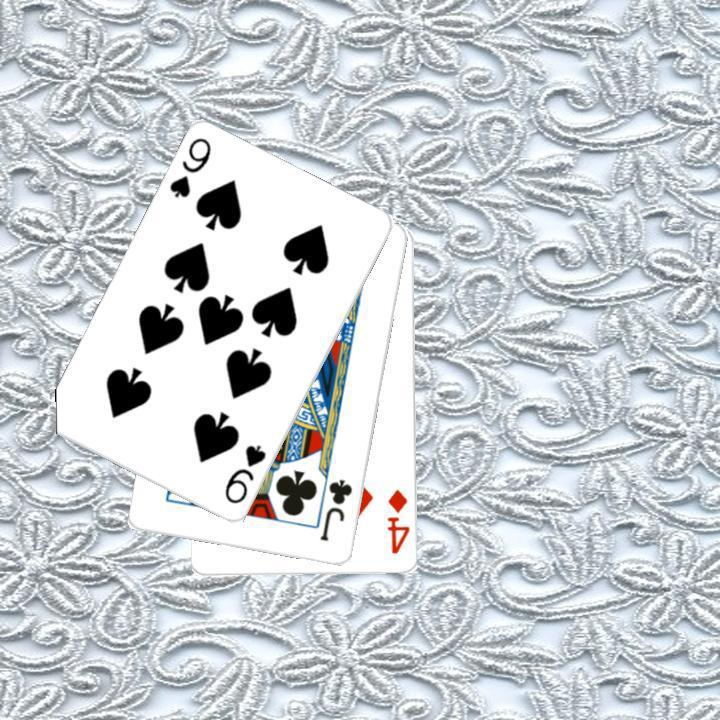4: (383, 486, 412, 557)
9: (165, 134, 214, 201), (220, 440, 268, 507)
J: (316, 476, 355, 544)
